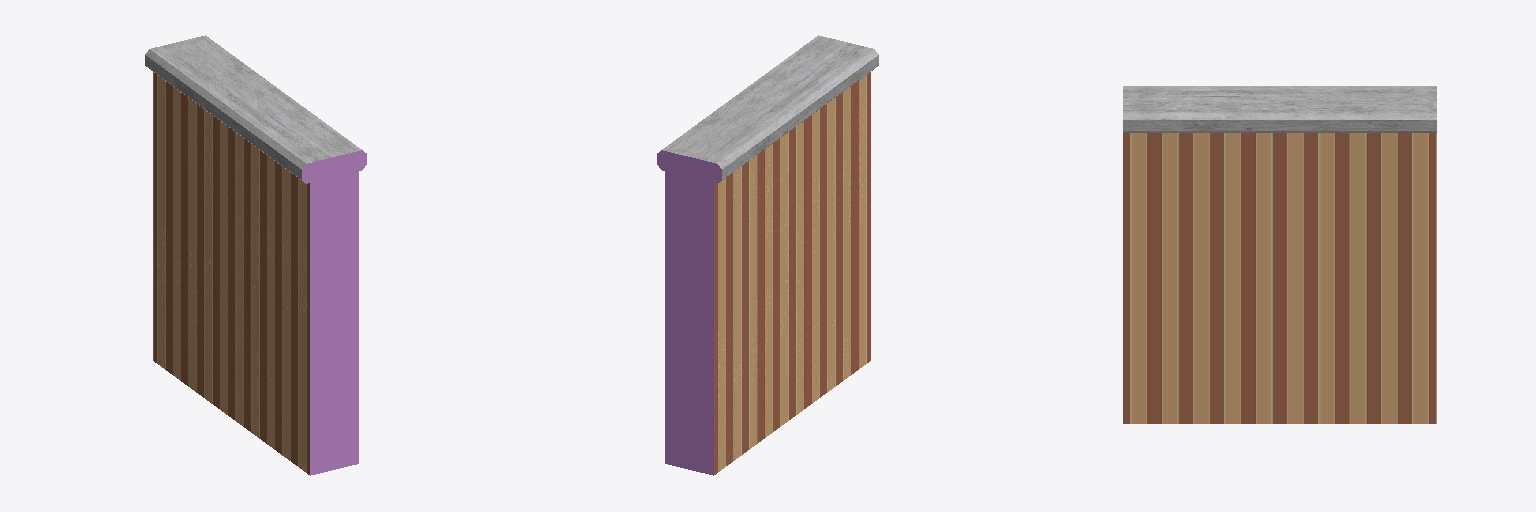
3 views of the same model, side by side, from view 1: azimuth 30°, elevation 25°; view 2: azimuth 150°, elevation 25°; view 3: azimuth 270°, elevation 25° (orthographic).
Parts seen in each view (by area): view 1: muro_habitat_alto; view 2: muro_habitat_alto; view 3: muro_habitat_alto.
Boxes of the visible parts, <box> form: muro_habitat_alto: <box>145,35,366,475</box>; muro_habitat_alto: <box>657,35,878,475</box>; muro_habitat_alto: <box>1123,86,1436,423</box>.
Bounding box in the file's own units: 4.99 × 22.91 × 20.83.
Materials: 3 (2 with a texture image).